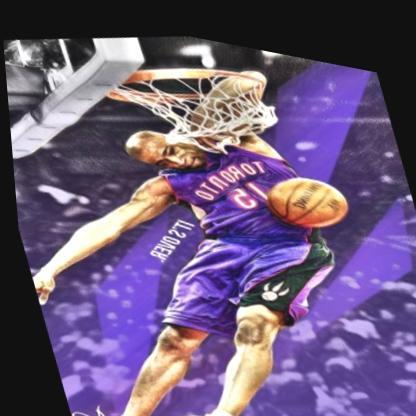basketball: (257, 151, 353, 231)
